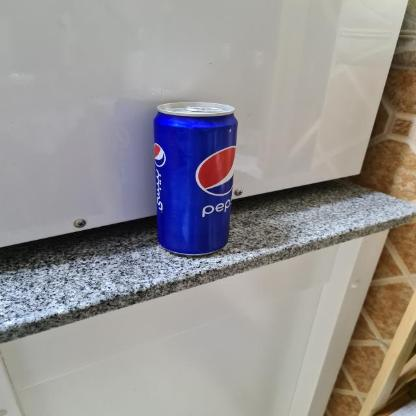Can: (147, 98, 241, 262)
